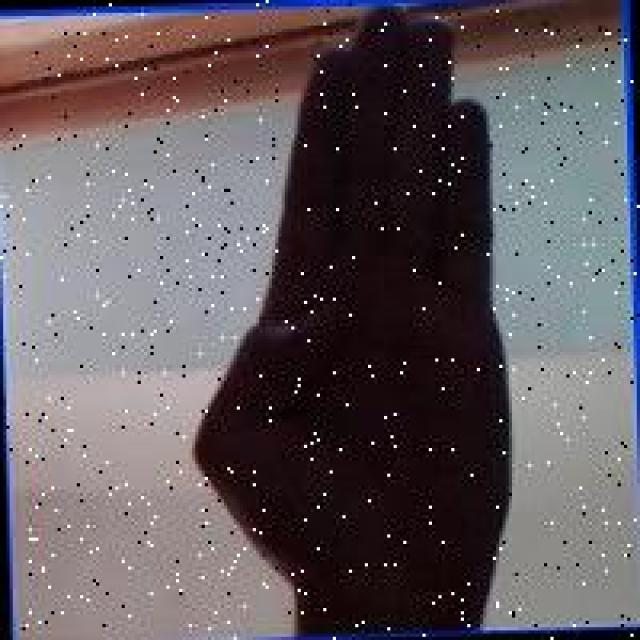B: (170, 0, 534, 634)
